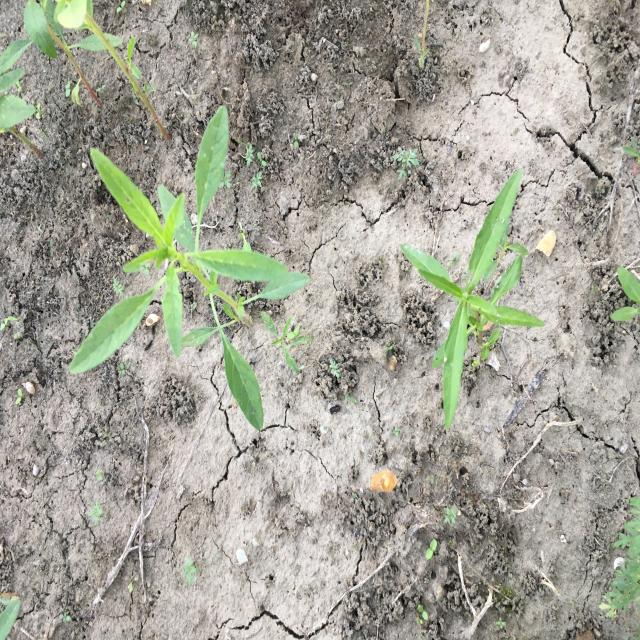Eclipta: (399, 167, 546, 432)
Ragweed: (598, 487, 638, 622)
Waterhemp: (68, 104, 312, 432), (1, 0, 172, 161)
